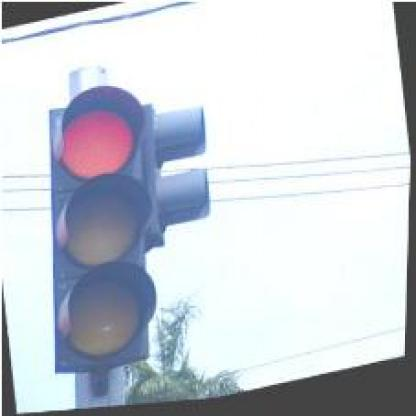red: (13, 76, 180, 386)
